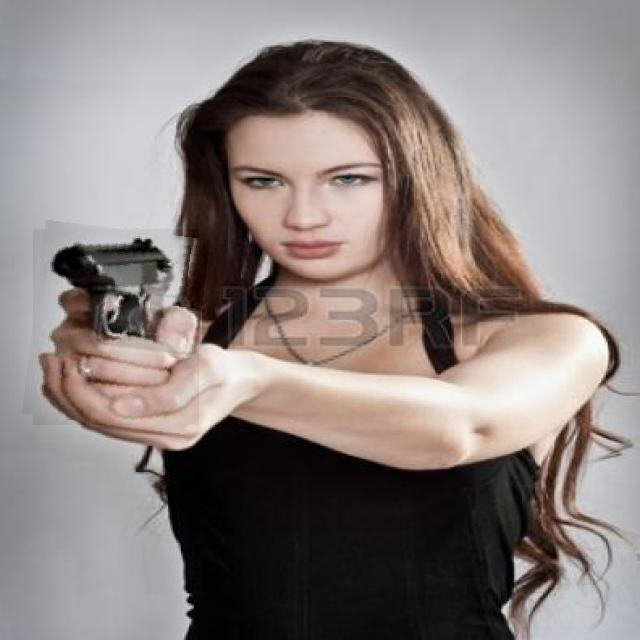handgun: (28, 225, 204, 430)
